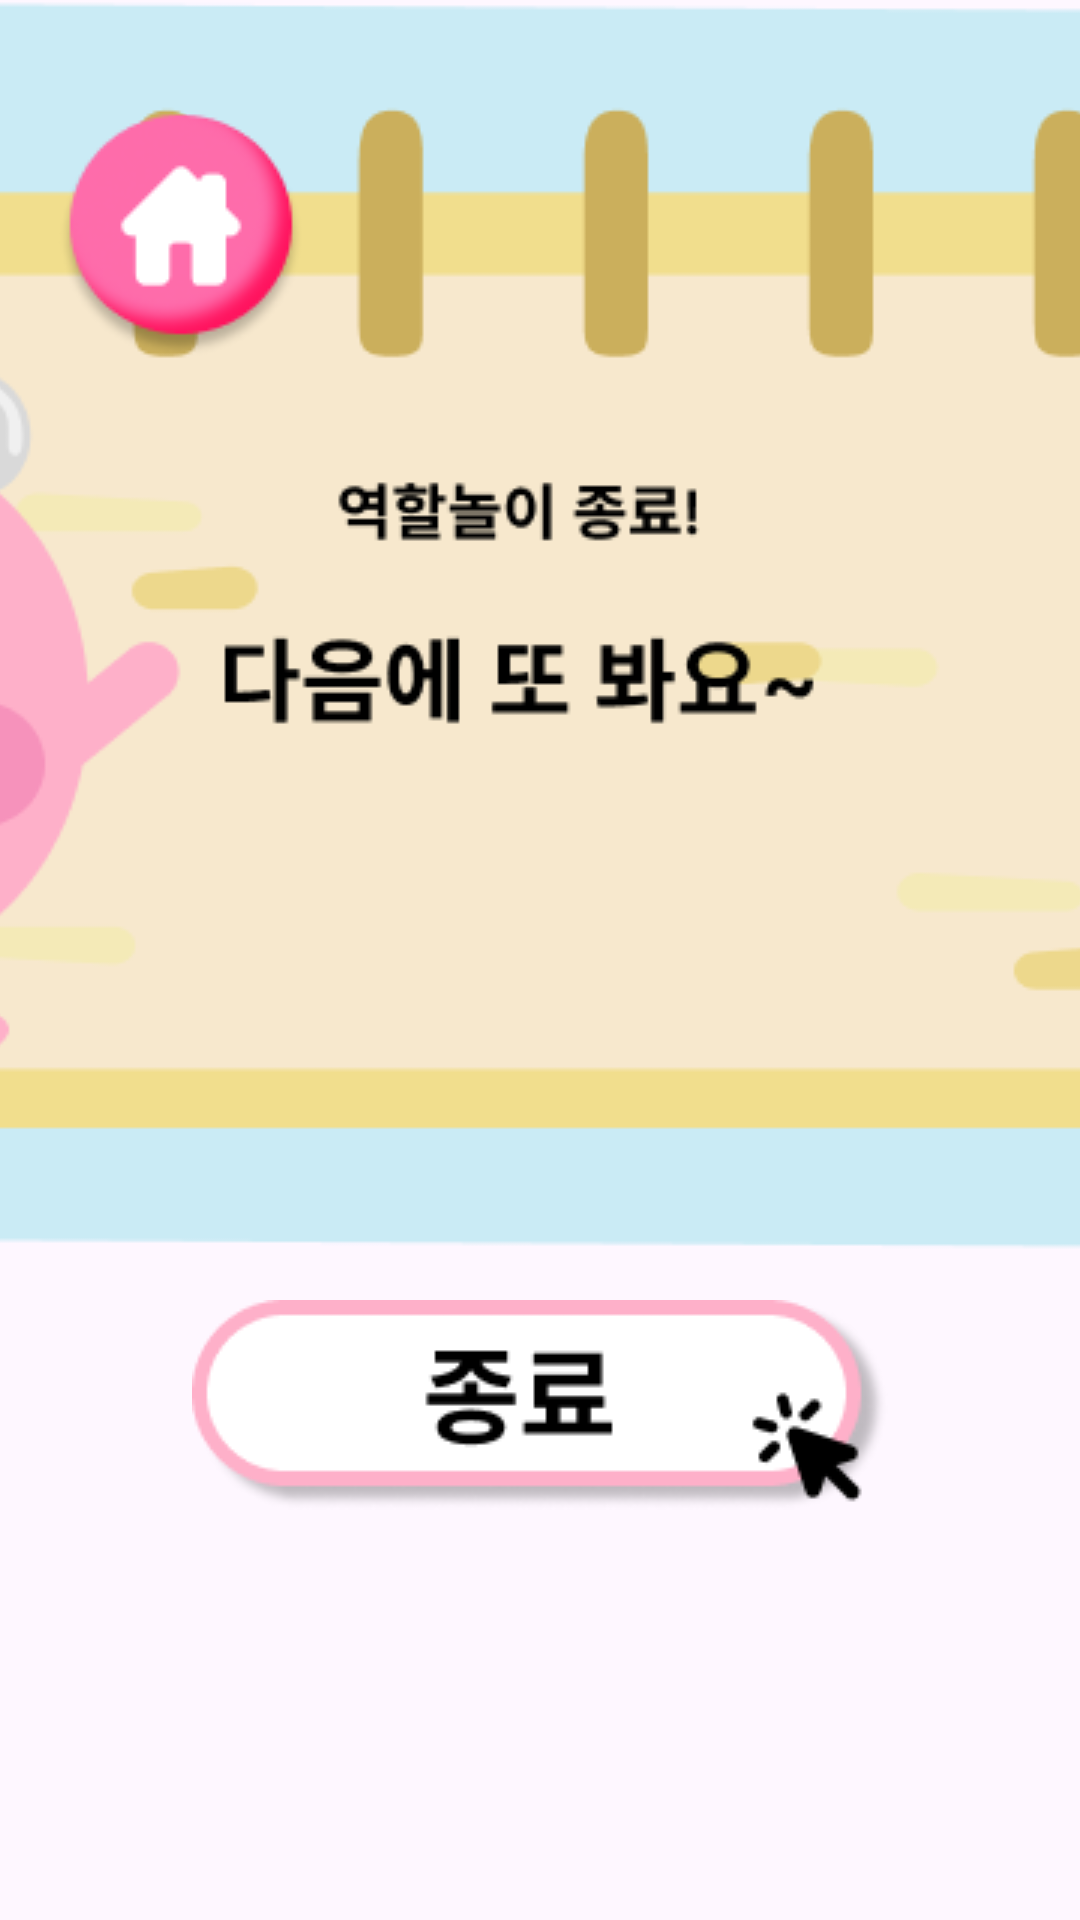

Where to tap for icons on this 1080*1920 app screen, as [x,y]:
home: [181,223]
